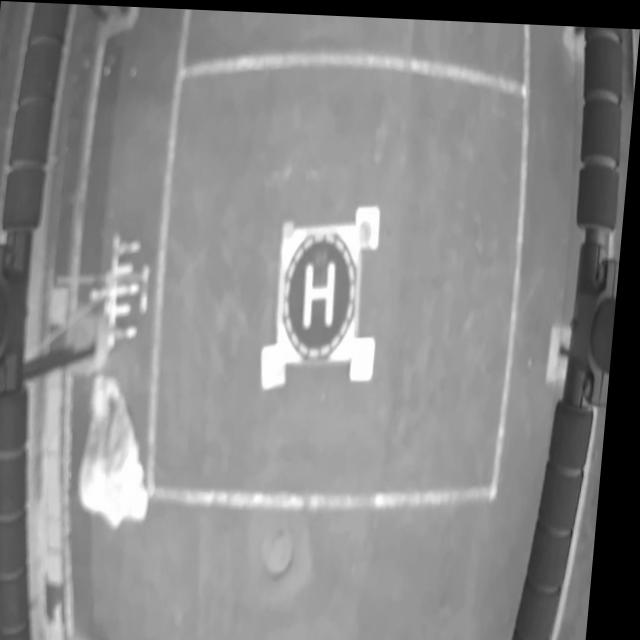Helipad: (307, 257, 339, 326)
